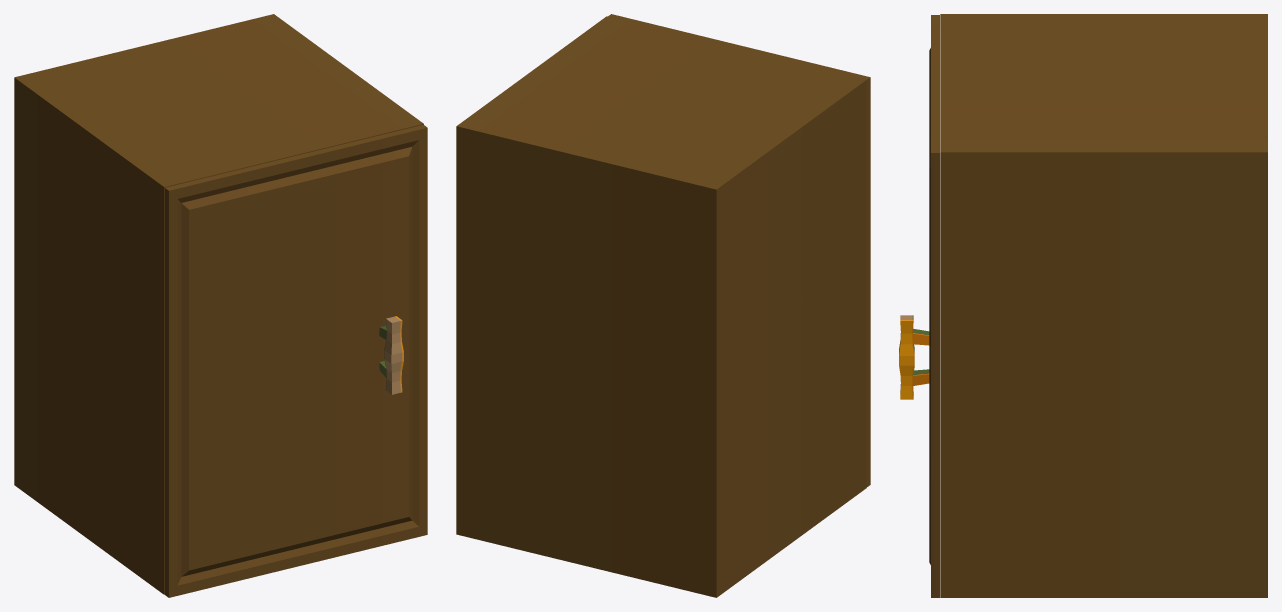
File: KitchenTabletop2_05.fbx
The picture shows the model from 3 angles, left to right: view 1: azimuth 30°, elevation 25°; view 2: azimuth 150°, elevation 25°; view 3: azimuth 270°, elevation 25°; orthographic projection. The views are drawn at different scales.
Visible parts, largest first — view 1: KitchenTabletop2_05; view 2: KitchenTabletop2_05; view 3: KitchenTabletop2_05.
Part boxes in pixels (x1,y1,x2,y2): KitchenTabletop2_05: (14, 14, 427, 597); KitchenTabletop2_05: (456, 14, 870, 597); KitchenTabletop2_05: (899, 14, 1267, 597).
Size of the model in its own units: 0.3983 by 0.5976 by 0.4483.
